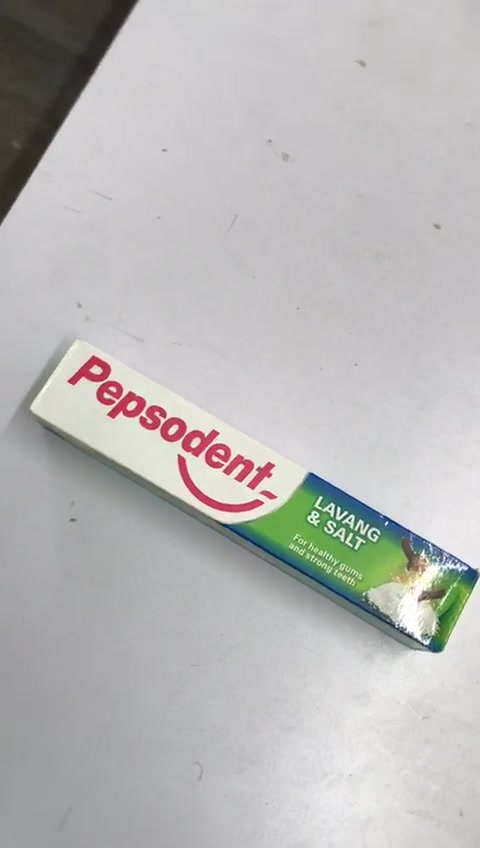pepsodent: (30, 338, 480, 656)
